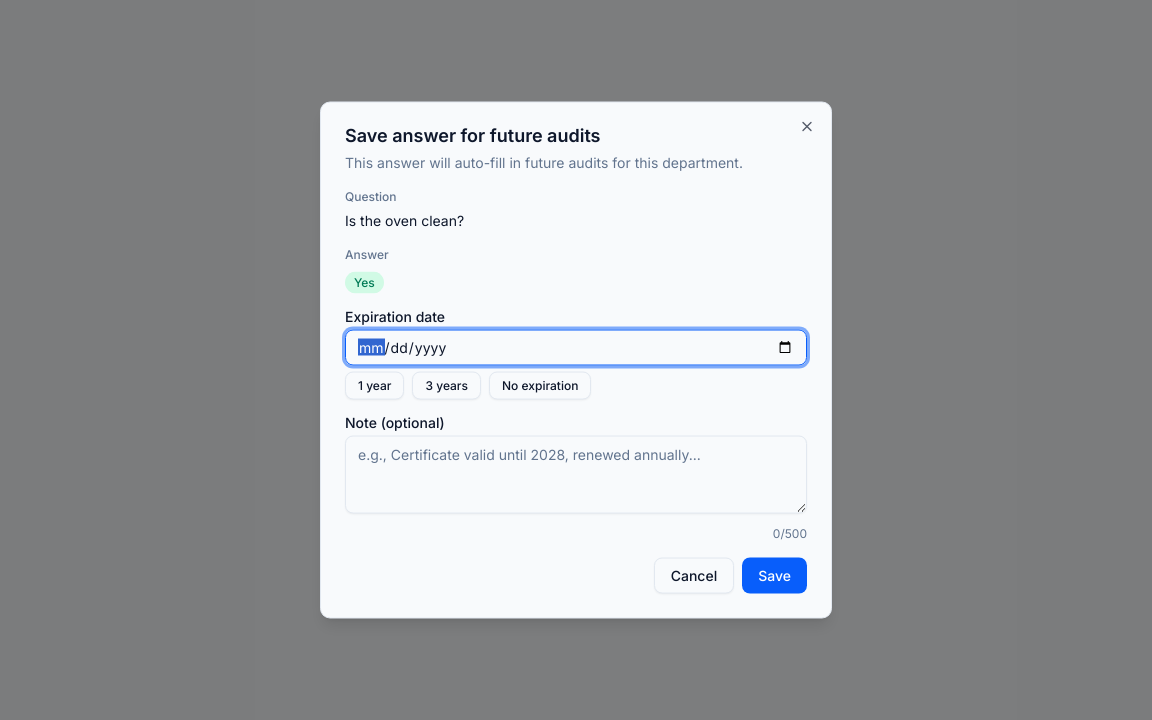
Test: SaveAnswerDialog › note character counter updates
The image size is (1152, 720).
Expected: the text "0/500" is shown, [773, 526, 807, 540]
Type "Hello" into the text box labelled "Note (optional)" at (576, 474), box [345, 436, 807, 514]
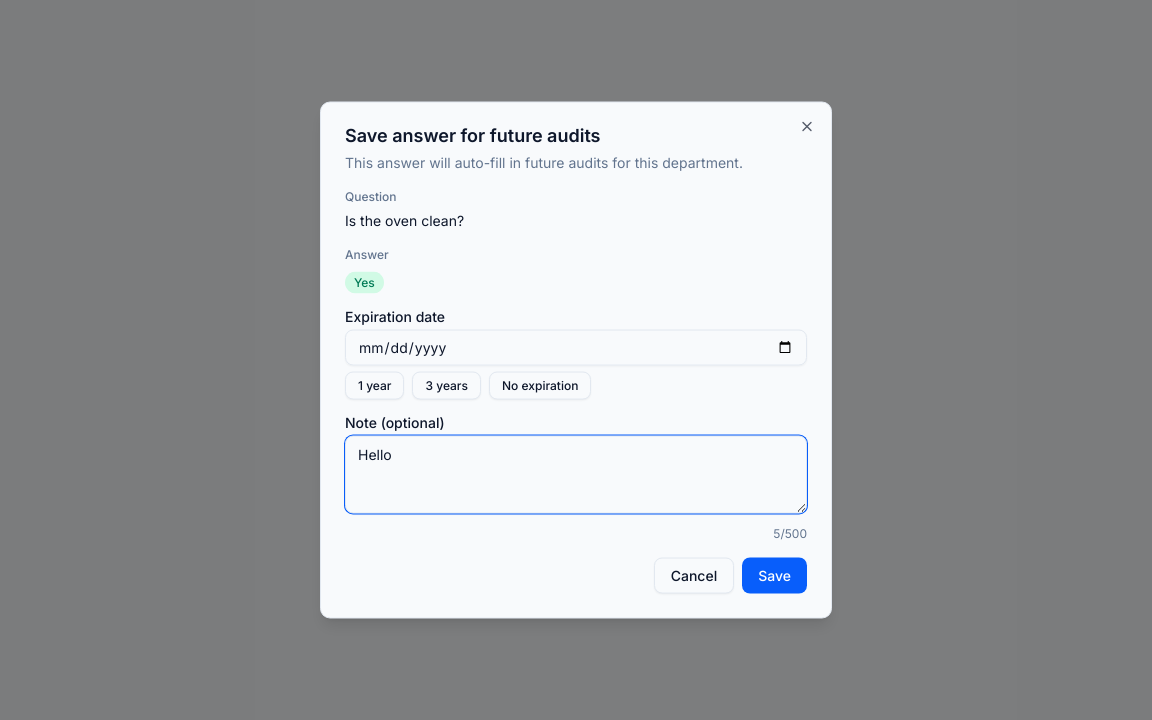
Now the text "5/500" is shown, box [773, 526, 807, 540]
